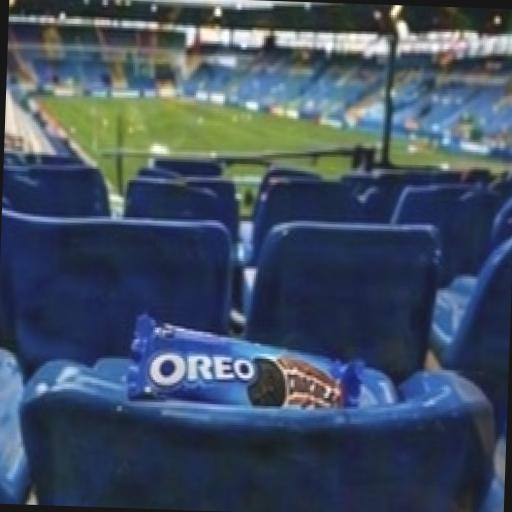oreo: (78, 248, 400, 468)
